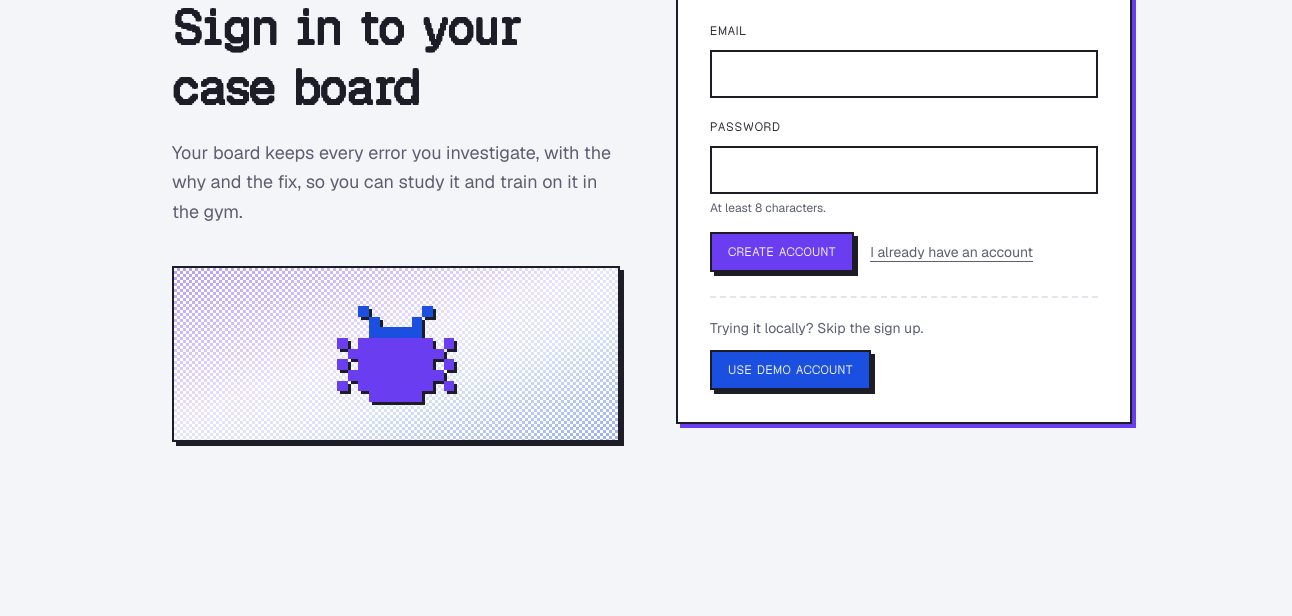
Test: opens on sign up from a "Create account" link
Expected: the text "At least 8 characters." is shown, [710,200,826,216]
In the field labelled "Email": (904, 74) [710,50,1098,98], type "ada@example.com"
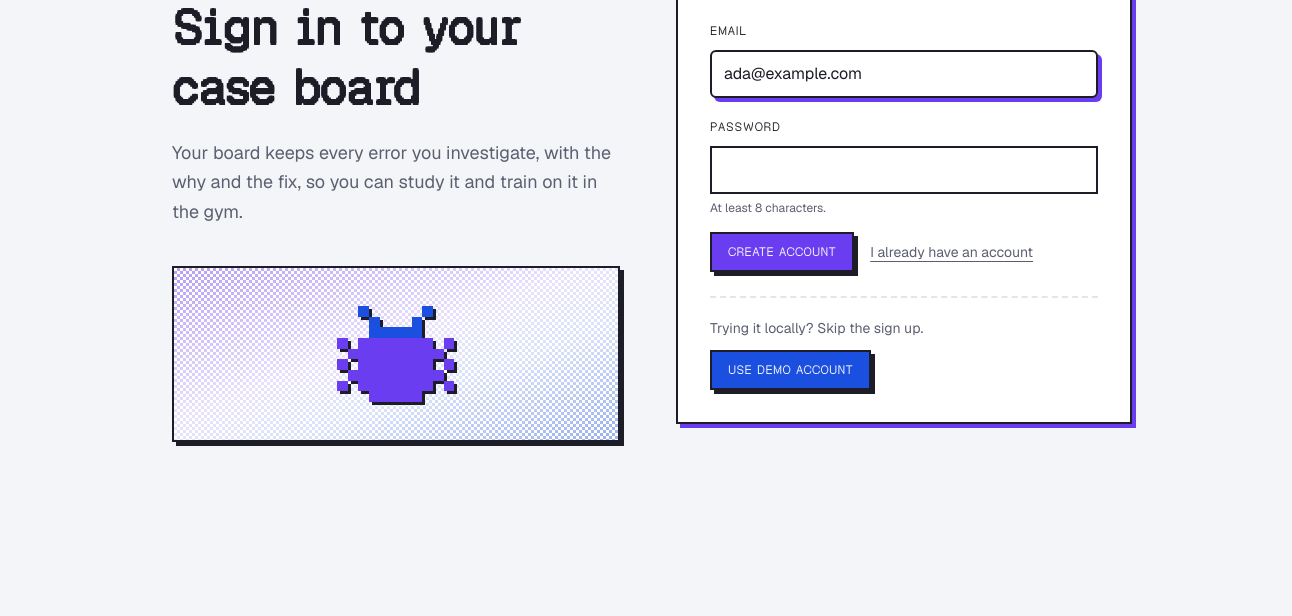
In the password field labelled "Password": (904, 170) [710,146,1098,194], type "correct horse"
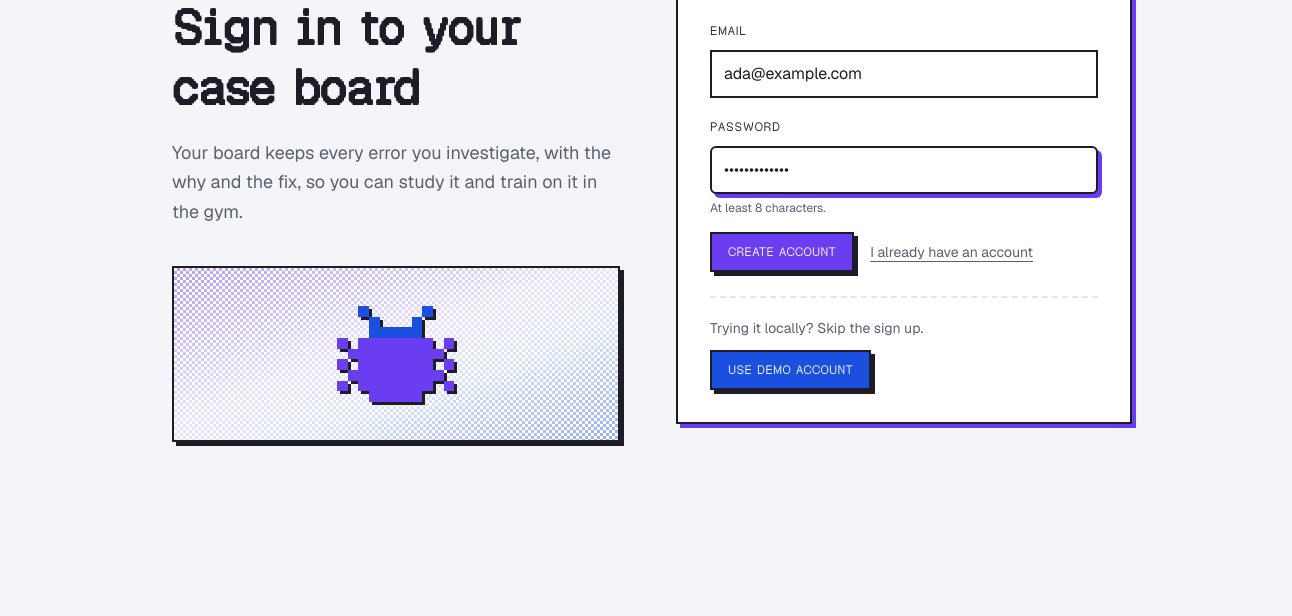
Click the button "Create account": (782, 252) [710,232,854,272]
(page scrolled)
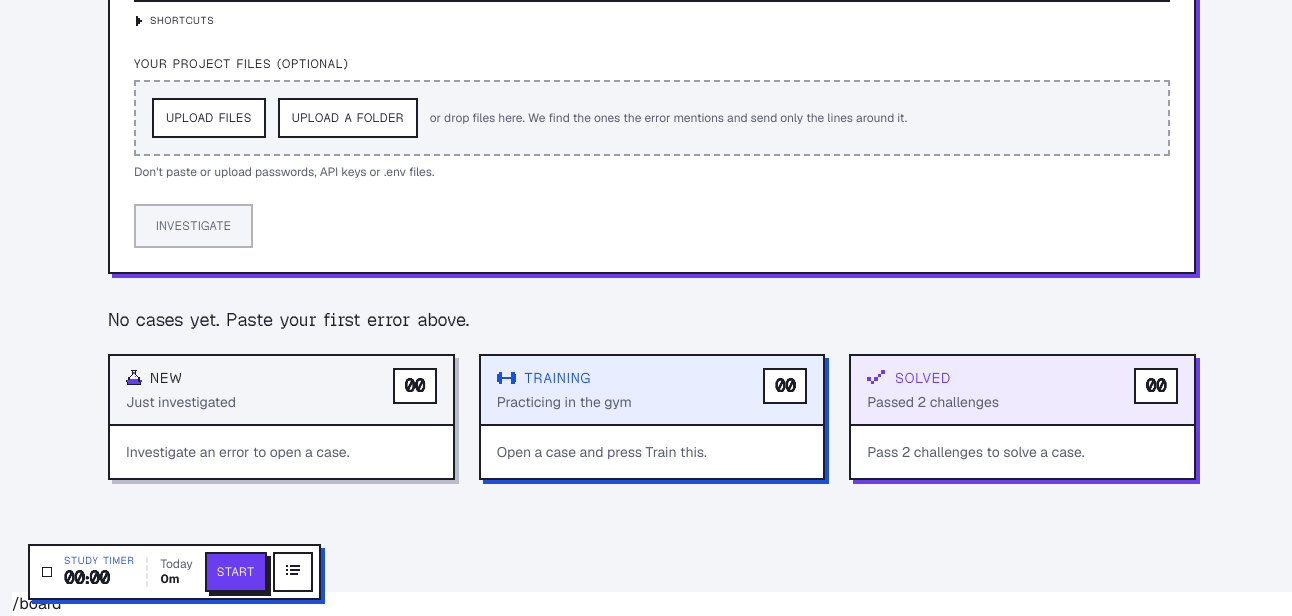
Expected: the text with test id "location" reads "/board", [12,593,62,614]
